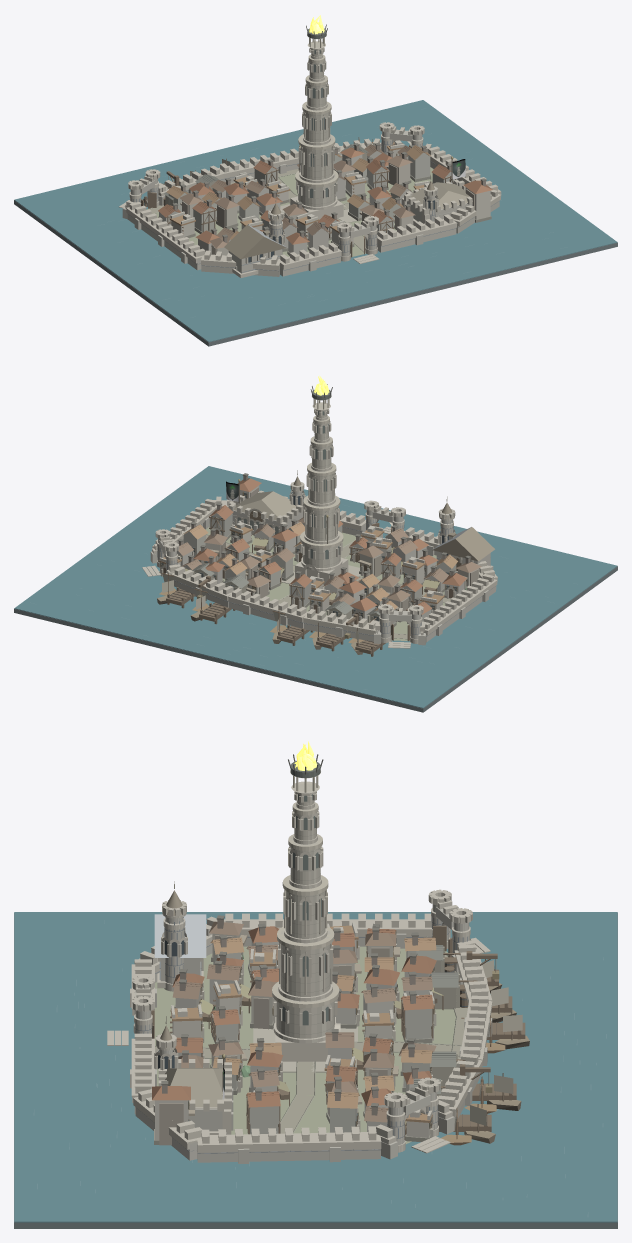
File: oldtown.glb
3 renders of one model, top to bottom at view 1: azimuth 30°, elevation 25°; view 2: azimuth 150°, elevation 25°; view 3: azimuth 270°, elevation 25°, orthographic. The views are drawn at different scales.
Parts seen in each view (by area): view 1: اولدتاون; view 2: اولدتاون; view 3: اولدتاون.
Boxes of the visible parts, bbox=[...] form: اولدتاون: bbox=[14, 15, 617, 346]; اولدتاون: bbox=[14, 375, 617, 712]; اولدتاون: bbox=[14, 741, 617, 1228].
Size of the model in its own units: 17 by 8.47 by 14.
Materials: 3 (1 with a texture image).
